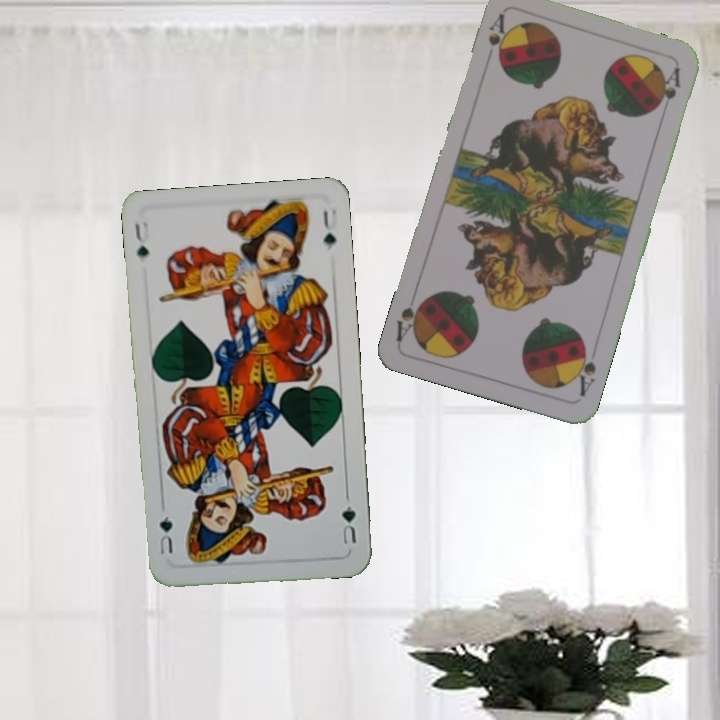GU: (338, 501, 359, 547), (131, 217, 152, 261)
SA: (568, 339, 599, 400), (481, 10, 508, 69)
